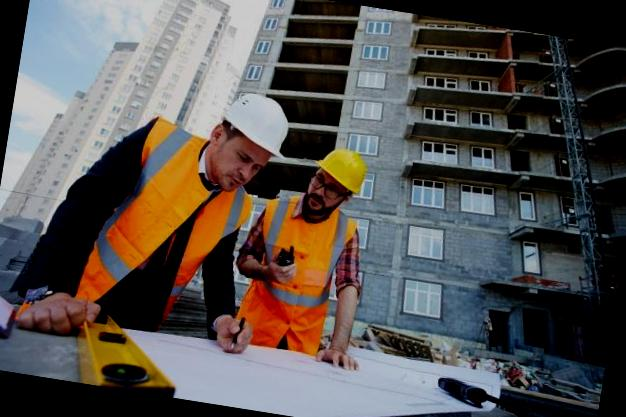helmet: (218, 86, 300, 162), (307, 140, 372, 202)
person: (50, 65, 298, 370), (219, 132, 388, 372)
